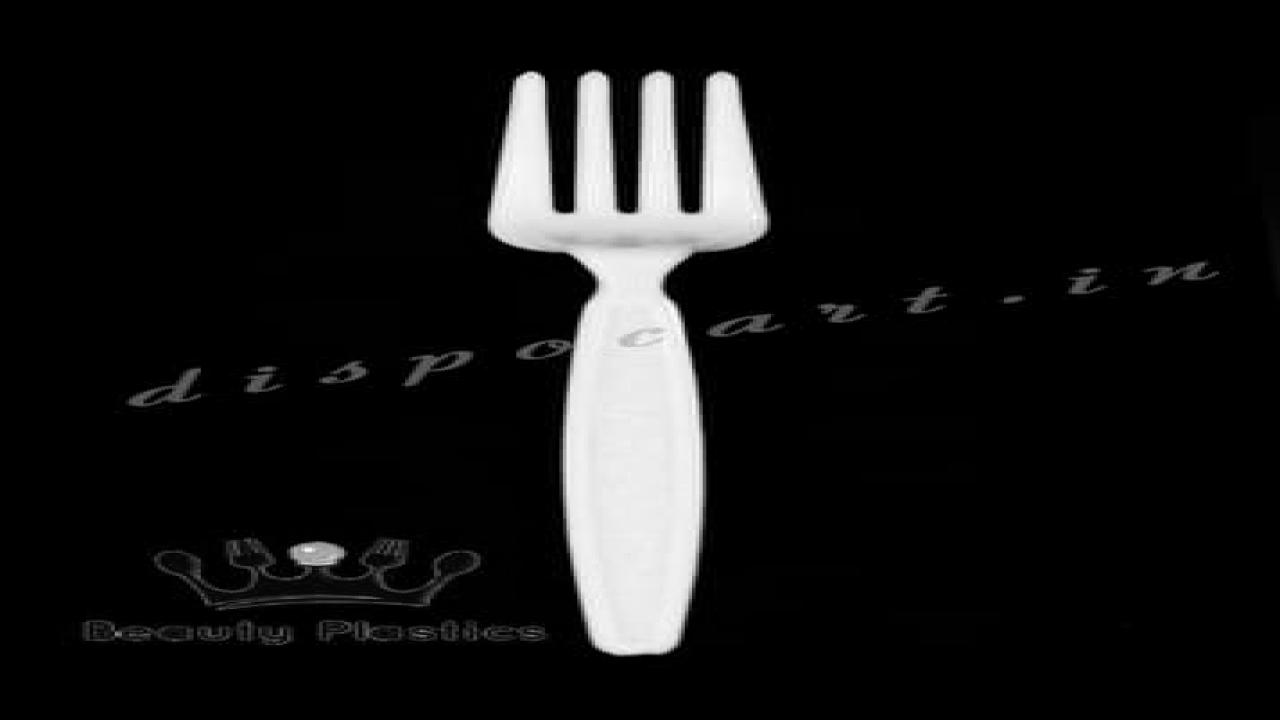fork: (484, 68, 771, 655)
